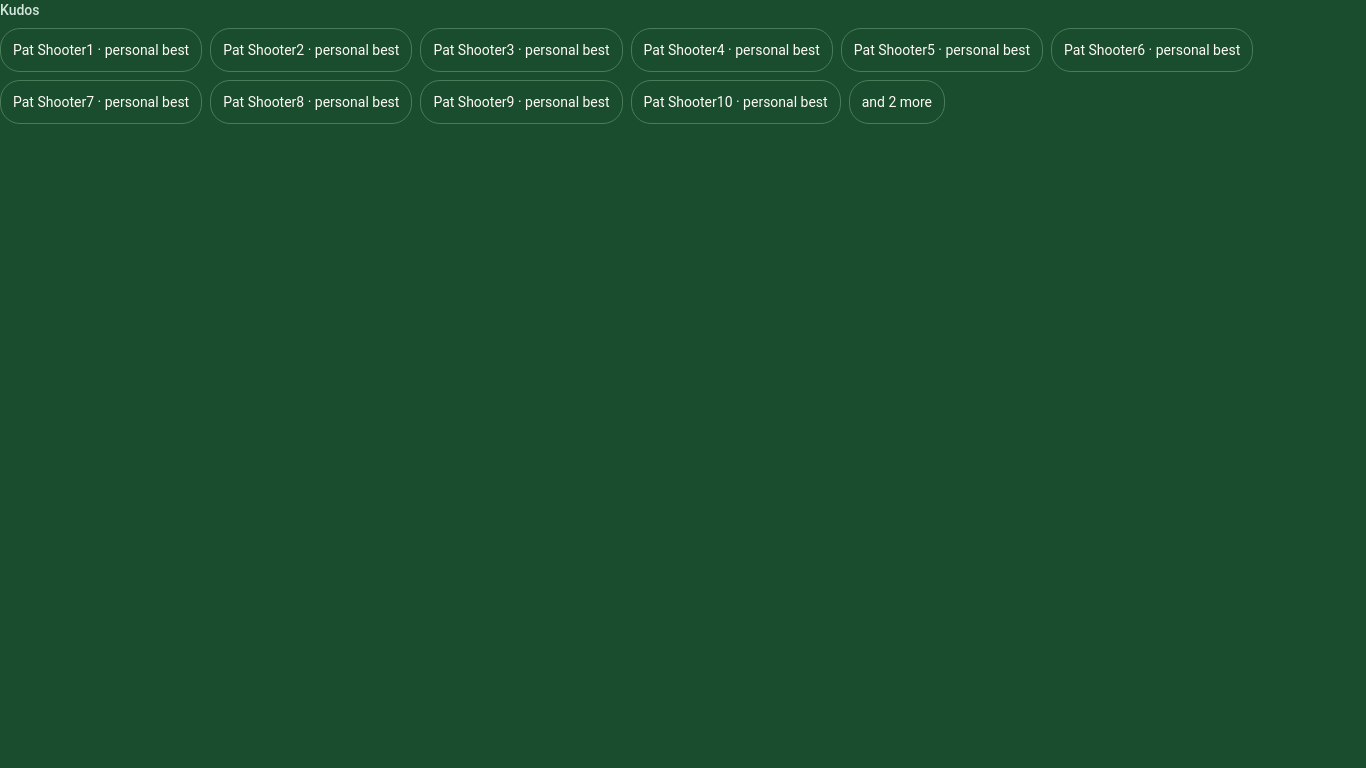
Test: KudosStrip › puts a fist bump on every row of the full list and on an opened chip
The image size is (1366, 768).
Click the button "and 2 more": (897, 102) [849,80,945,124]
(page scrolled)
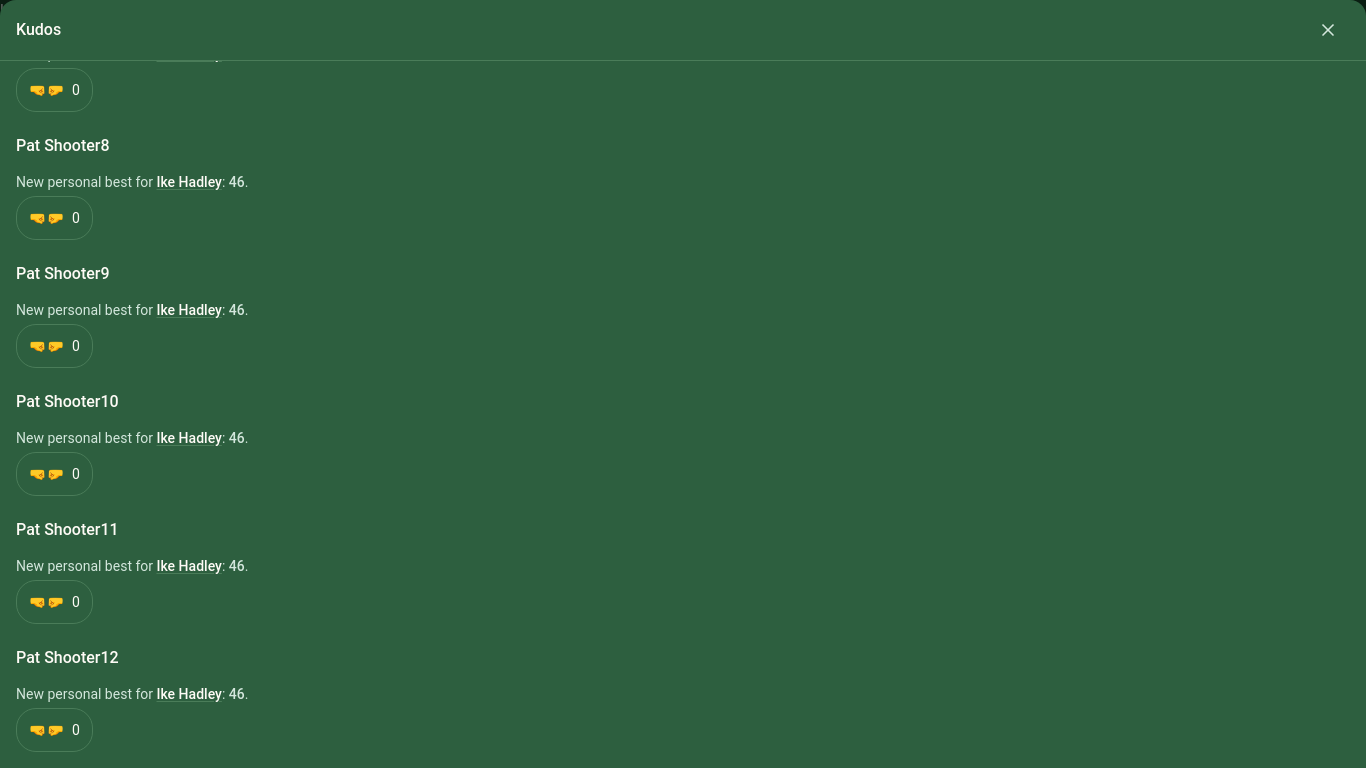
Expected: the number of buttons "Fist bump" is 12
Expected: the list item "Pat Shooter12 New personal best for Ike Hadley : 46. 🤜🤛 0" is shown, [16,648,248,752]
